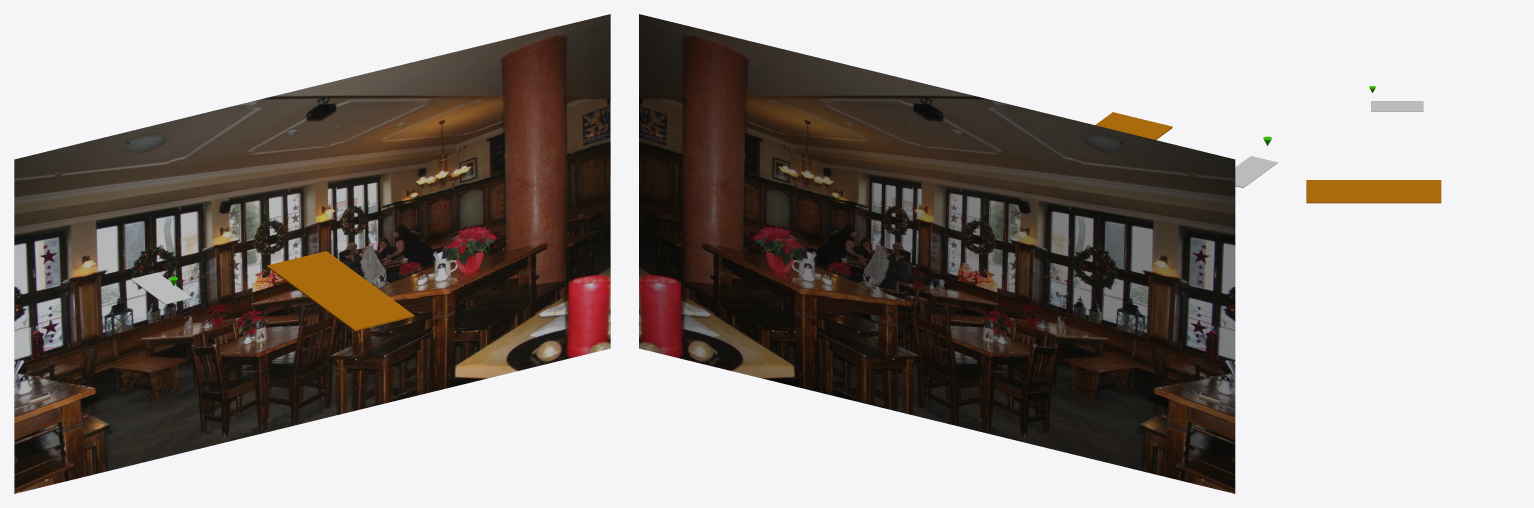
The model's file is world.dae.
The picture shows the model from 3 angles, left to right: view 1: azimuth 30°, elevation 25°; view 2: azimuth 150°, elevation 25°; view 3: azimuth 270°, elevation 25°; orthographic projection. The views are drawn at different scales.
Parts seen in each view (by area): view 1: Plane, Cube, card; view 2: Plane, Cube, card; view 3: Cube, card.
Part boxes in pixels (x1,y1,x2,y2): Plane: [14, 14, 610, 493]; Cube: [266, 251, 414, 331]; card: [131, 272, 191, 304]; Plane: [639, 14, 1235, 493]; Cube: [1095, 112, 1172, 139]; card: [1235, 156, 1277, 187]; Cube: [1306, 180, 1441, 203]; card: [1371, 101, 1423, 111].
Bounding box in the file's own units: 30.55 × 12.32 × 16.38.
4 materials, 1 textured.
